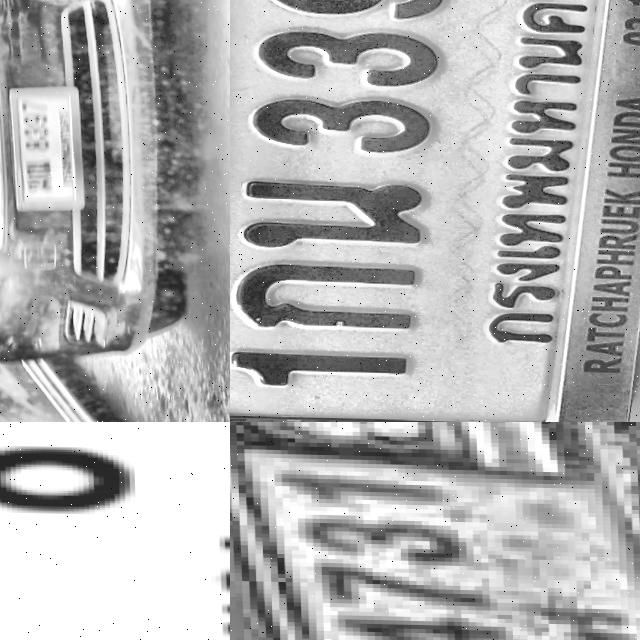license-plate: (230, 0, 640, 422), (230, 422, 640, 640), (0, 422, 230, 640), (5, 82, 90, 212)
